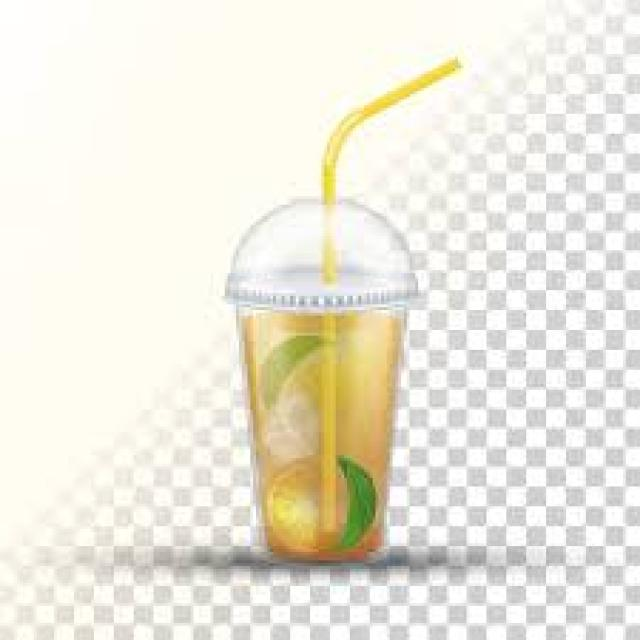bottle: (230, 282, 415, 561)
